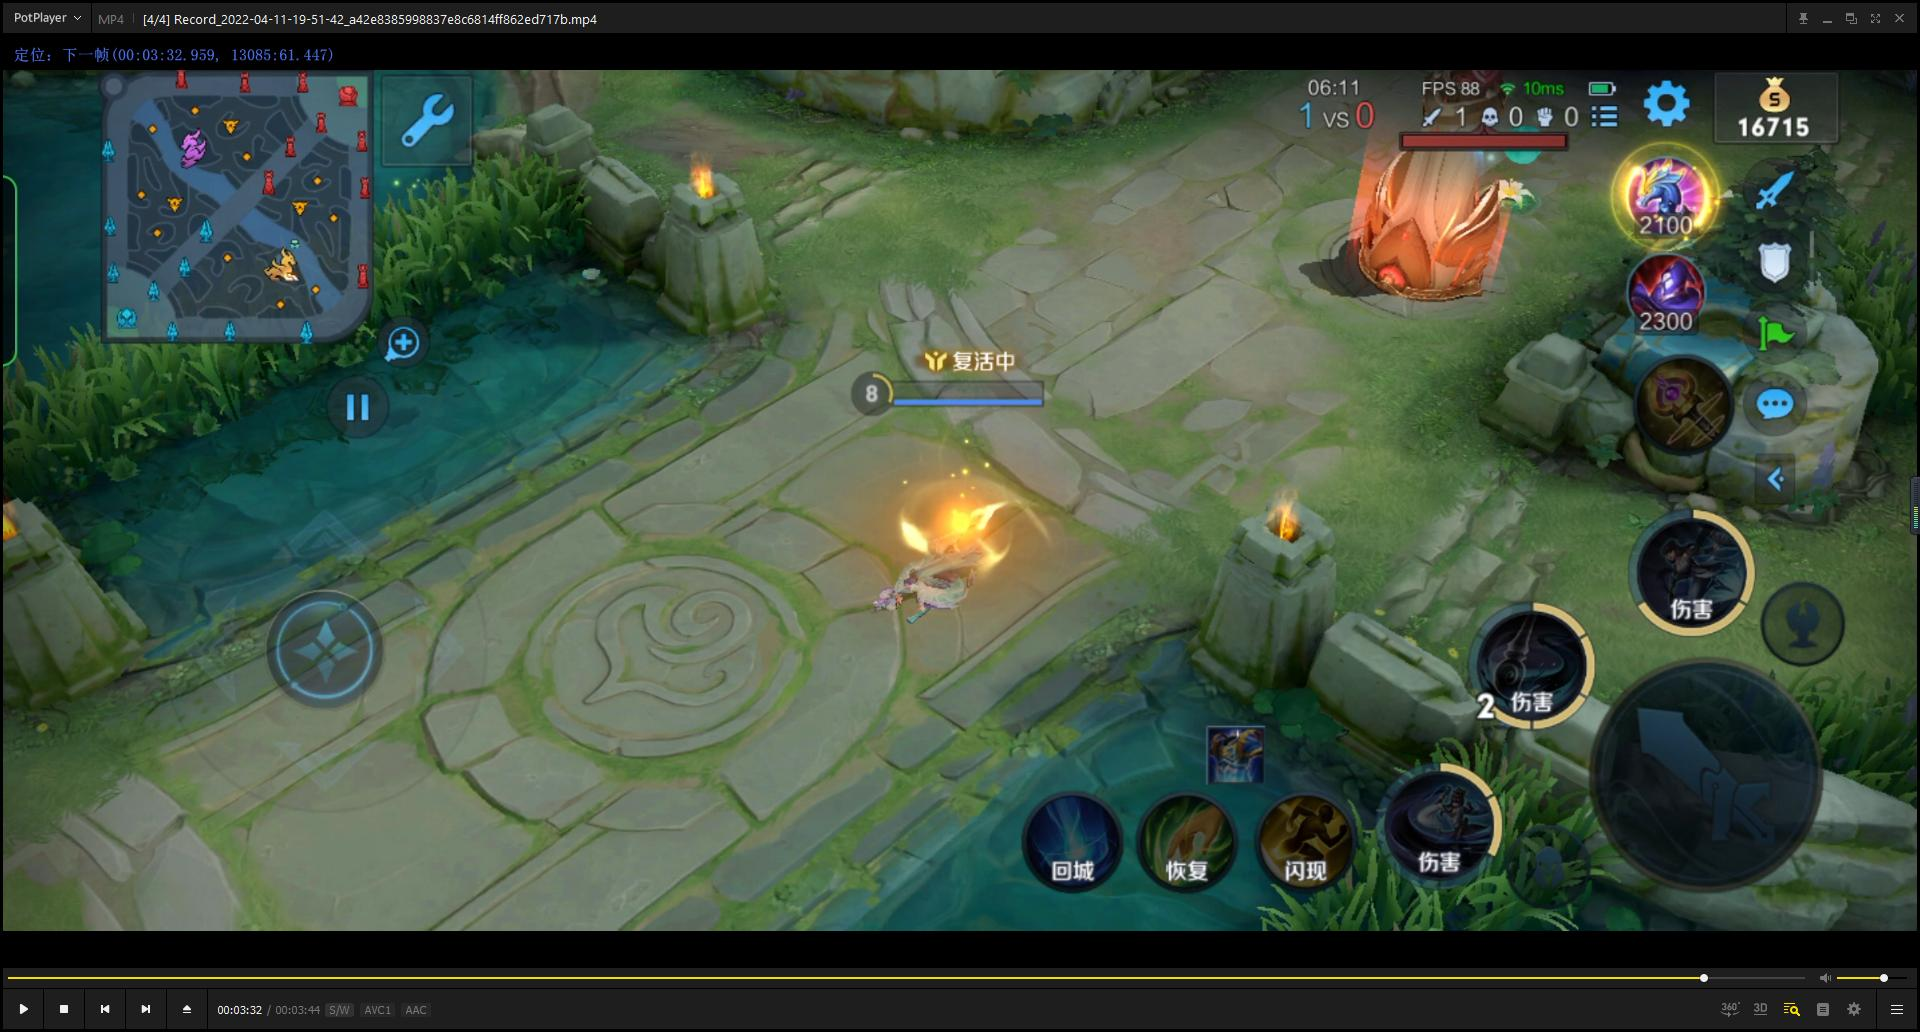Hero: (846, 432, 1069, 641)
Tower: (1322, 64, 1559, 305)
